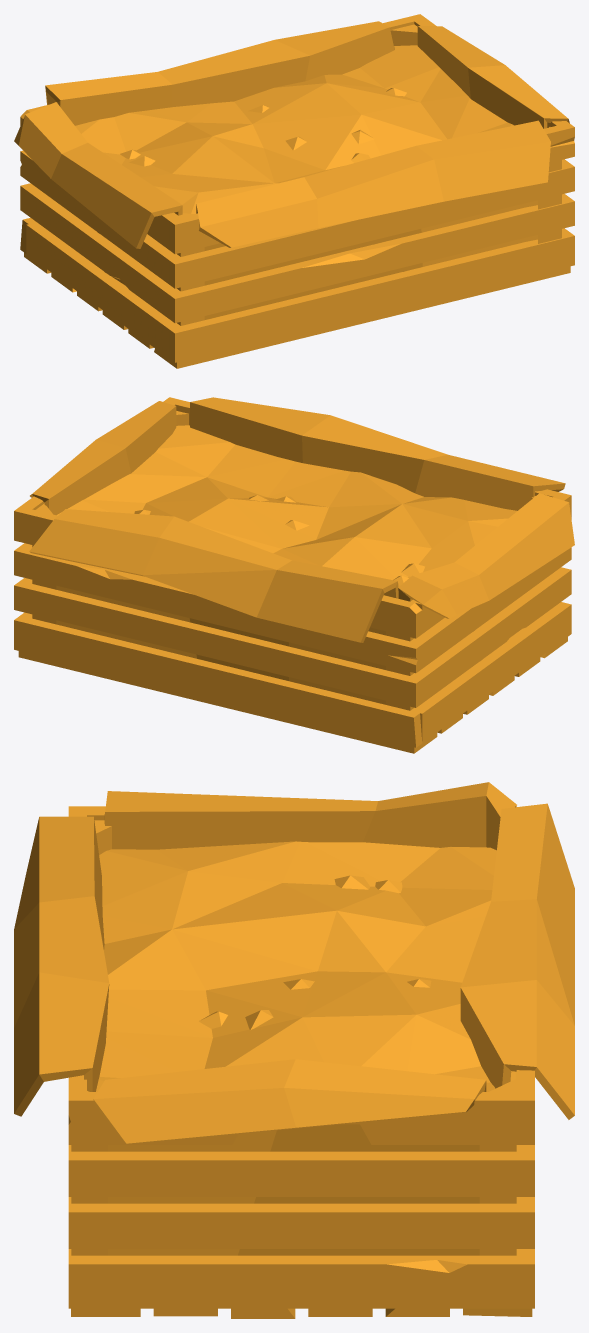
The model's file is crate-wood-medium-paper-sunflower-seeds.fbx.
The picture shows the model from 3 angles, top to bottom: view 1: azimuth 30°, elevation 25°; view 2: azimuth 150°, elevation 25°; view 3: azimuth 270°, elevation 25°; orthographic projection. The views are drawn at different scales.
Parts seen in each view (by area): view 1: crate-wood-medium-paper-sunflower-seeds; view 2: crate-wood-medium-paper-sunflower-seeds; view 3: crate-wood-medium-paper-sunflower-seeds.
Boxes of the visible parts, box(x1,y1,x2,y2) form: crate-wood-medium-paper-sunflower-seeds: box(14, 14, 574, 368); crate-wood-medium-paper-sunflower-seeds: box(14, 397, 574, 753); crate-wood-medium-paper-sunflower-seeds: box(14, 782, 574, 1318).
Size of the model in its own units: 0.663 by 0.2348 by 0.4887.
